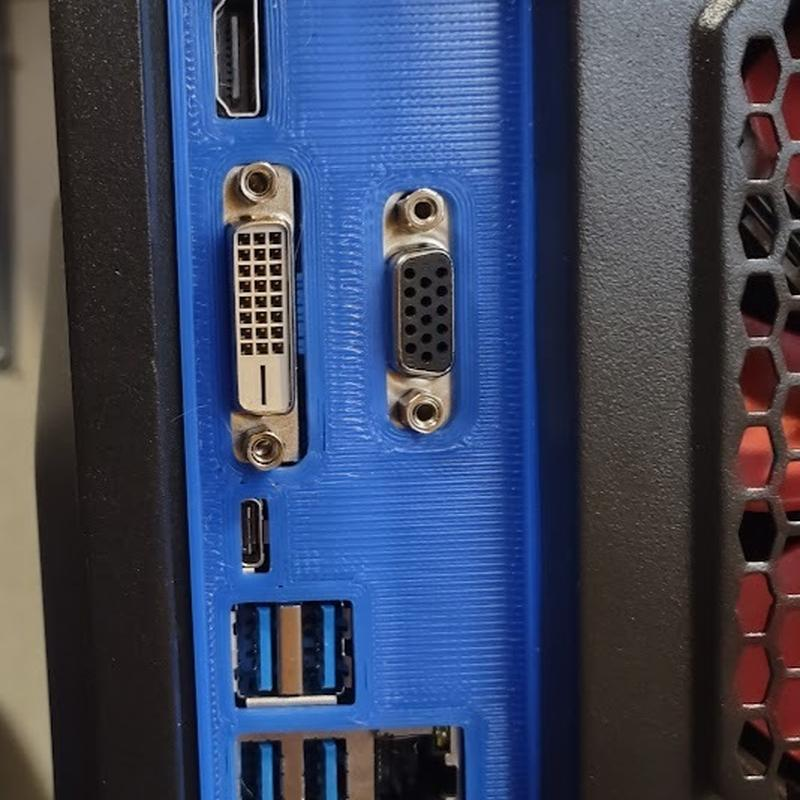DVI: (197, 163, 321, 471)
ETHERNET: (364, 712, 481, 799)
HDMI: (194, 0, 273, 132)
USB: (216, 586, 286, 718), (291, 588, 359, 713), (291, 723, 360, 799), (228, 726, 287, 799)
USBC: (230, 487, 283, 583)
VGA: (363, 166, 478, 456)
